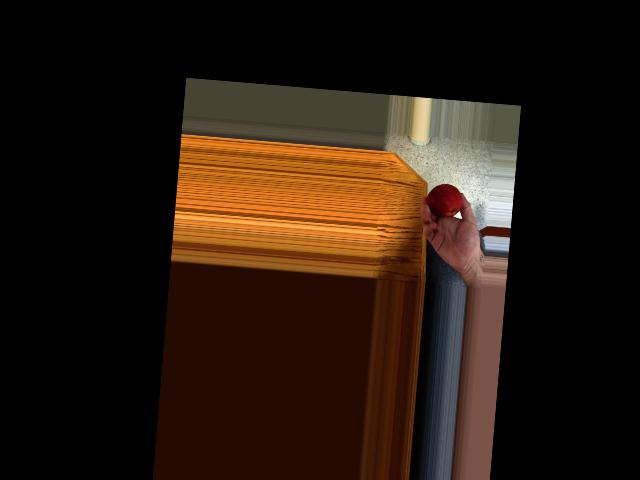apple: (424, 181, 465, 218)
